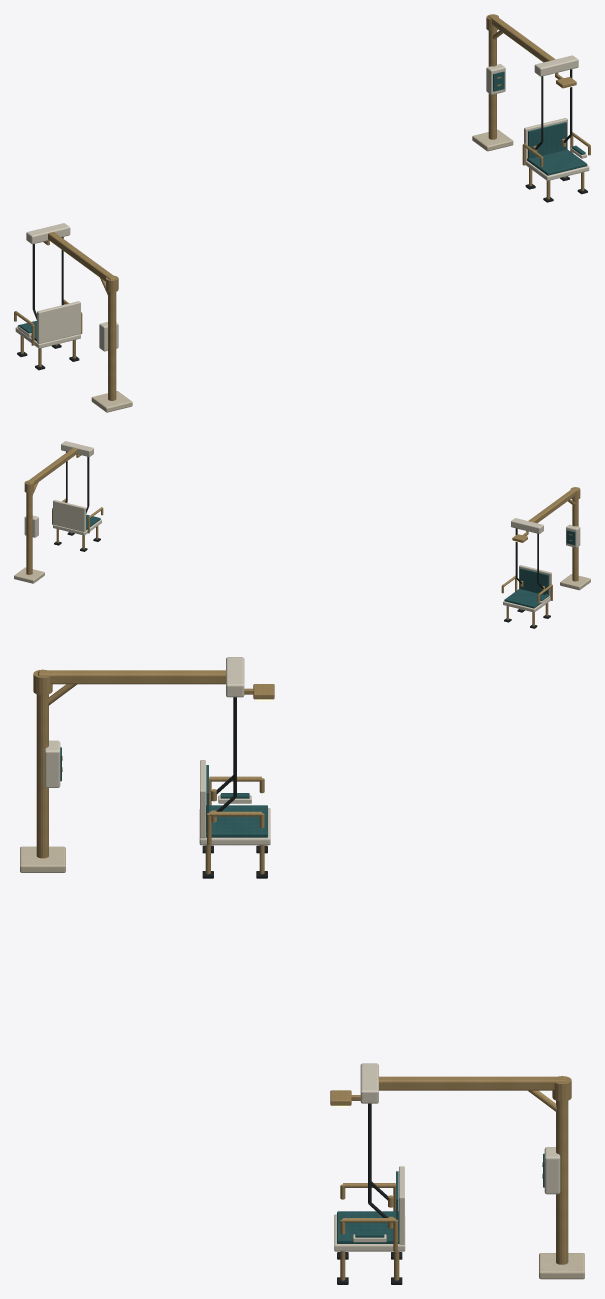
Rendered from Group6ThermalSupport_02_r004.glb.
3 views of the same model, one above another, from view 1: azimuth 30°, elevation 25°; view 2: azimuth 150°, elevation 25°; view 3: azimuth 270°, elevation 25° (orthographic). The views are drawn at different scales.
Visible parts, largest first — view 1: G6_SUPPORT_02__station_1_seat_back_load, G6_SUPPORT_02__station_0_seat_back_pad, G6_SUPPORT_02__station_1_mast_load_column, G6_SUPPORT_02__station_0_seat_pad, G6_SUPPORT_02__station_1_parked_lift_arm, G6_SUPPORT_02__station_0_parked_lift_arm, G6_SUPPORT_02__station_0_mast_load_column, G6_SUPPORT_02__station_0_parked_head, G6_SUPPORT_02__station_0_mast_floor_anchor, G6_SUPPORT_02__station_1_mast_floor_anchor, G6_SUPPORT_02__station_1_parked_head; view 2: G6_SUPPORT_02__station_0_seat_back_load, G6_SUPPORT_02__station_1_seat_back_pad, G6_SUPPORT_02__station_0_mast_load_column, G6_SUPPORT_02__station_1_seat_pad, G6_SUPPORT_02__station_0_parked_lift_arm, G6_SUPPORT_02__station_1_parked_lift_arm, G6_SUPPORT_02__station_1_mast_load_column, G6_SUPPORT_02__station_1_parked_head, G6_SUPPORT_02__station_0_mast_floor_anchor, G6_SUPPORT_02__station_1_mast_floor_anchor, G6_SUPPORT_02__station_0_parked_head; view 3: G6_SUPPORT_02__station_0_parked_lift_arm, G6_SUPPORT_02__station_1_parked_lift_arm, G6_SUPPORT_02__station_0_mast_load_column, G6_SUPPORT_02__station_1_mast_load_column, G6_SUPPORT_02__station_1_seat_pad, G6_SUPPORT_02__station_0_seat_pad, G6_SUPPORT_02__station_0_mast_floor_anchor, G6_SUPPORT_02__station_1_mast_floor_anchor.
Part boxes in pixels (box(x1,y1,x2,y2)): G6_SUPPORT_02__station_1_seat_back_load: box(37, 301, 80, 343); G6_SUPPORT_02__station_0_seat_back_pad: box(528, 122, 566, 158); G6_SUPPORT_02__station_1_mast_load_column: box(108, 292, 116, 400); G6_SUPPORT_02__station_0_seat_pad: box(527, 149, 587, 175); G6_SUPPORT_02__station_1_parked_lift_arm: box(48, 232, 116, 281); G6_SUPPORT_02__station_0_parked_lift_arm: box(488, 14, 555, 62); G6_SUPPORT_02__station_0_mast_load_column: box(488, 30, 496, 139); G6_SUPPORT_02__station_0_parked_head: box(534, 55, 578, 76); G6_SUPPORT_02__station_0_mast_floor_anchor: box(472, 129, 513, 151); G6_SUPPORT_02__station_1_mast_floor_anchor: box(91, 391, 132, 412); G6_SUPPORT_02__station_1_parked_head: box(26, 223, 70, 244); G6_SUPPORT_02__station_0_seat_back_load: box(53, 500, 85, 531); G6_SUPPORT_02__station_1_seat_back_pad: box(519, 568, 548, 594); G6_SUPPORT_02__station_0_mast_load_column: box(26, 493, 32, 574); G6_SUPPORT_02__station_1_seat_pad: box(504, 589, 544, 608); G6_SUPPORT_02__station_0_parked_lift_arm: box(26, 447, 77, 484); G6_SUPPORT_02__station_1_parked_lift_arm: box(528, 487, 578, 523); G6_SUPPORT_02__station_1_mast_load_column: box(572, 499, 578, 581); G6_SUPPORT_02__station_1_parked_head: box(511, 518, 543, 533); G6_SUPPORT_02__station_0_mast_floor_anchor: box(14, 567, 44, 583); G6_SUPPORT_02__station_1_mast_floor_anchor: box(560, 574, 590, 590); G6_SUPPORT_02__station_0_parked_head: box(61, 441, 93, 456); G6_SUPPORT_02__station_0_parked_lift_arm: box(378, 1076, 566, 1090); G6_SUPPORT_02__station_1_parked_lift_arm: box(38, 670, 226, 684); G6_SUPPORT_02__station_0_mast_load_column: box(556, 1100, 568, 1264); G6_SUPPORT_02__station_1_mast_load_column: box(36, 694, 48, 858); G6_SUPPORT_02__station_1_seat_pad: box(206, 805, 267, 837); G6_SUPPORT_02__station_0_seat_pad: box(337, 1211, 398, 1243); G6_SUPPORT_02__station_0_mast_floor_anchor: box(539, 1253, 584, 1279); G6_SUPPORT_02__station_1_mast_floor_anchor: box(20, 846, 65, 872).
Bounding box in the file's own units: 10.91 × 2.22 × 5.88.
Materials: 6 (5 with a texture image).
